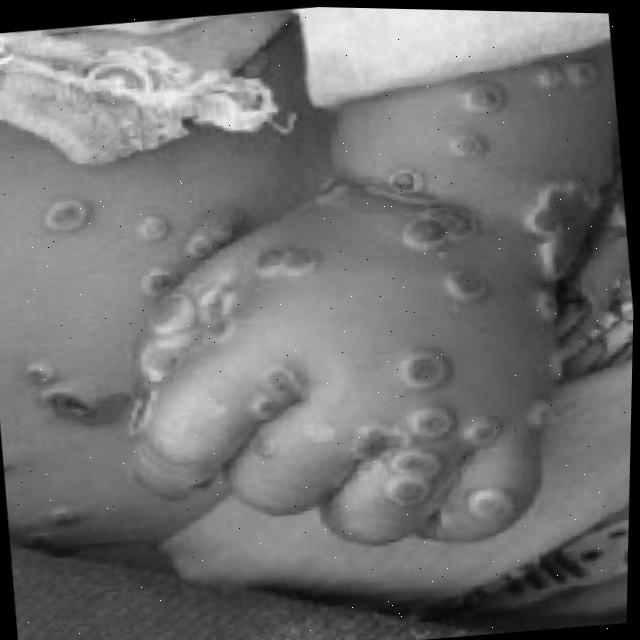Eczema: (0, 9, 634, 583)
